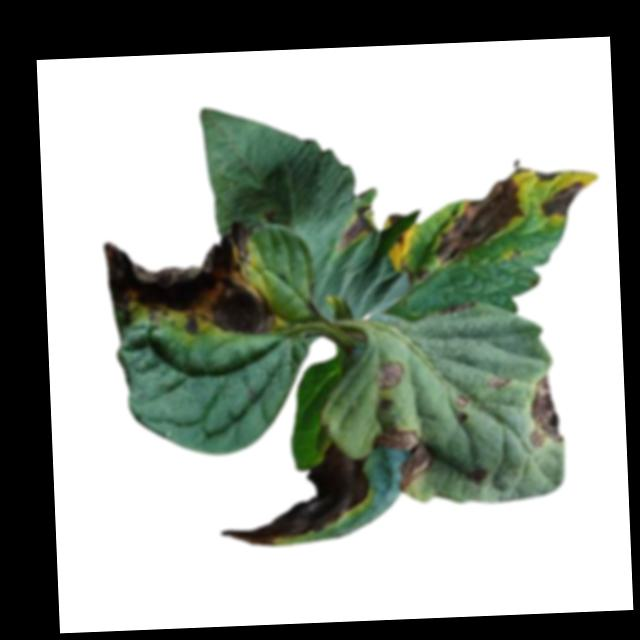Early_blight: (101, 219, 278, 340), (216, 438, 366, 547), (434, 172, 529, 264), (369, 420, 436, 490), (527, 372, 565, 446), (538, 180, 586, 220), (336, 205, 372, 247), (377, 359, 404, 390), (387, 211, 412, 244), (442, 298, 474, 316), (534, 169, 561, 183), (489, 375, 512, 388), (454, 394, 472, 408), (471, 468, 489, 481)
